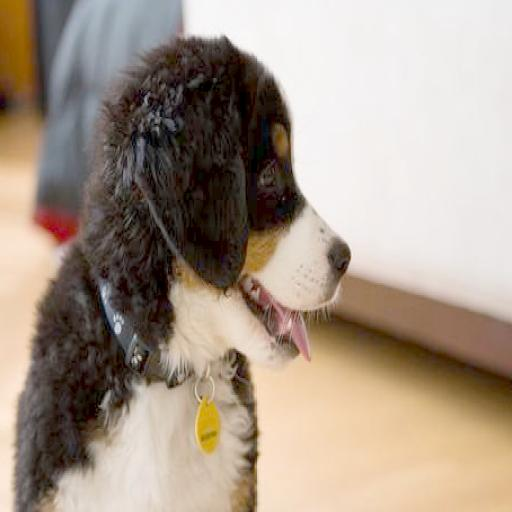dog_face: (106, 43, 344, 360)
